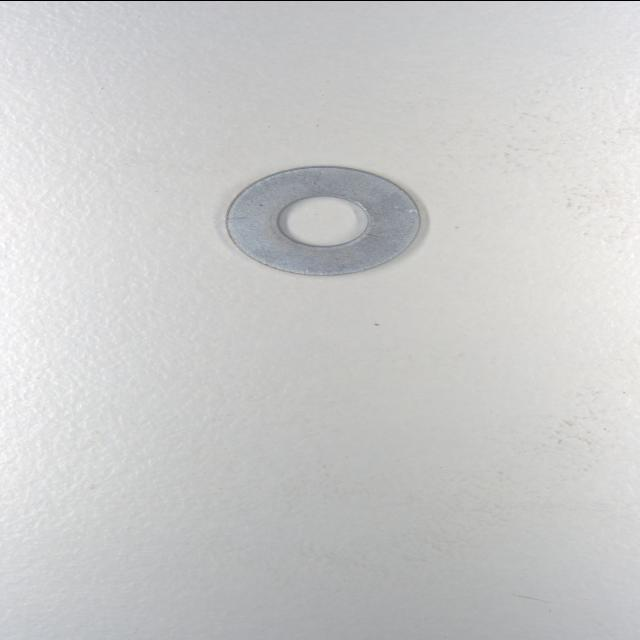washer: (221, 164, 425, 275)
